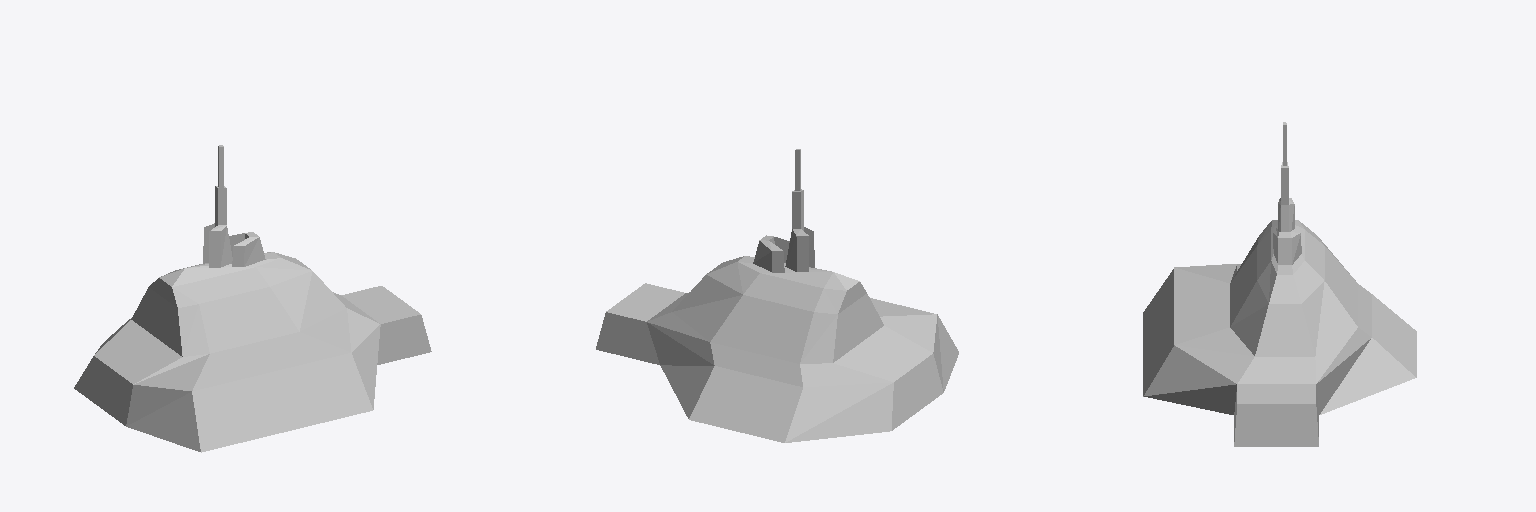
Rendered from Milo1.obj.
3 views of the same model, side by side, from view 1: azimuth 30°, elevation 25°; view 2: azimuth 150°, elevation 25°; view 3: azimuth 270°, elevation 25° (orthographic).
Parts seen in each view (by area): view 1: Sphere.002; view 2: Sphere.002; view 3: Sphere.002.
Part boxes in pixels (x1,y1,x2,y2): Sphere.002: (74,145,431,452); Sphere.002: (596,149,958,442); Sphere.002: (1143,122,1416,446).
Bounding box in the file's own units: 3.16 × 2.3 × 2.45.